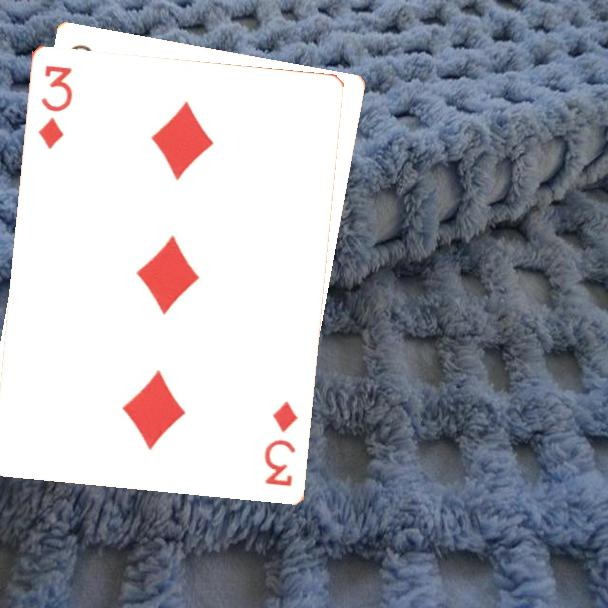d03: (34, 61, 75, 152), (260, 397, 300, 489)
